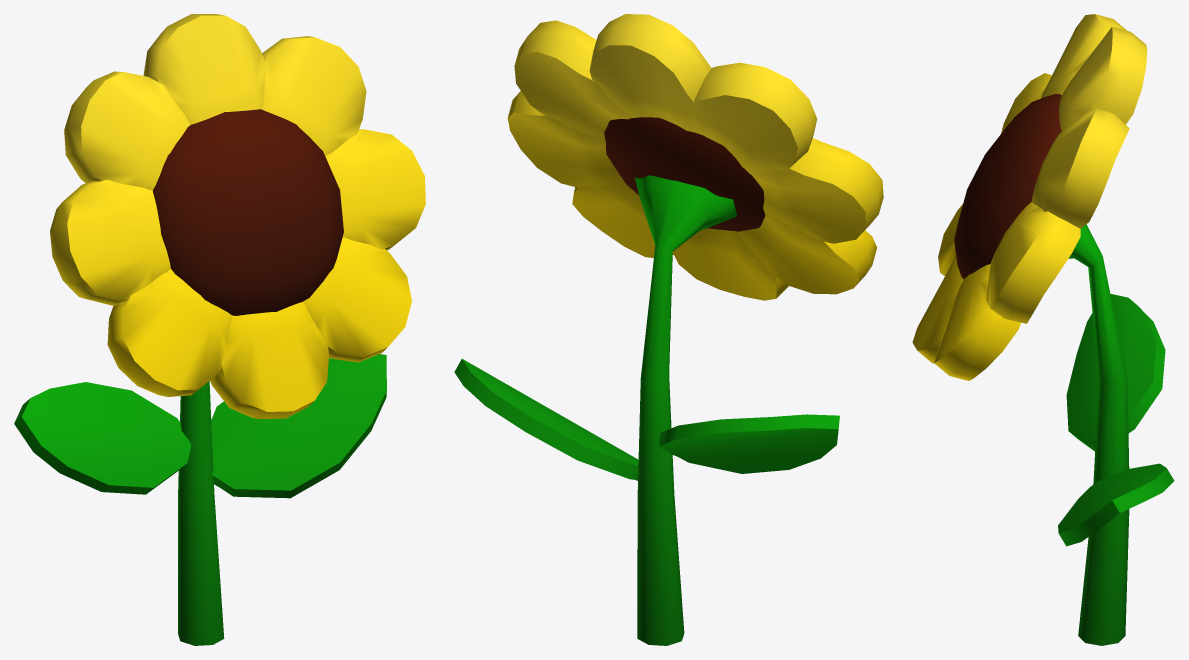
File: Farm_Crop_Sunflower_01.fbx
3 renders of one model, left to right at view 1: azimuth 30°, elevation 25°; view 2: azimuth 150°, elevation 25°; view 3: azimuth 270°, elevation 25°, orthographic. The views are drawn at different scales.
Visible parts, largest first — view 1: Farm_Crop_Sunflower_01; view 2: Farm_Crop_Sunflower_01; view 3: Farm_Crop_Sunflower_01.
Part boxes in pixels (x1,y1,x2,y2): Farm_Crop_Sunflower_01: [14, 14, 425, 645]; Farm_Crop_Sunflower_01: [454, 14, 883, 645]; Farm_Crop_Sunflower_01: [912, 14, 1174, 645].
Size of the model in its own units: 69.61 by 109 by 42.69.
